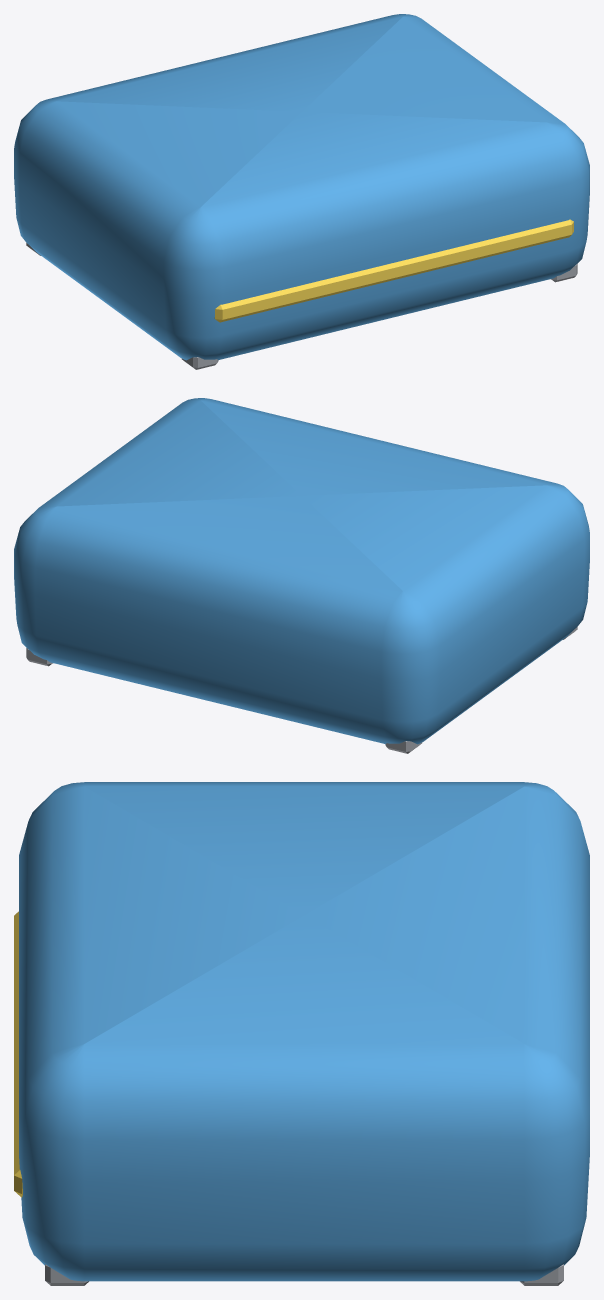
The model's file is trampoline-park-and-soft-play-airbag-landing-block-9dc0a4e8__34618.glb.
3 views of the same model, one above another, from view 1: azimuth 30°, elevation 25°; view 2: azimuth 150°, elevation 25°; view 3: azimuth 270°, elevation 25° (orthographic). The views are drawn at different scales.
Visible parts, largest first — view 1: airbag-landing-block; view 2: airbag-landing-block; view 3: airbag-landing-block.
Part boxes in pixels (left/top/right/bottom): airbag-landing-block: left=14, top=14, right=589, bottom=369; airbag-landing-block: left=14, top=398, right=589, bottom=753; airbag-landing-block: left=14, top=782, right=589, bottom=1285.
Bounding box in the file's own units: 2.62 × 0.8999 × 2.04.
